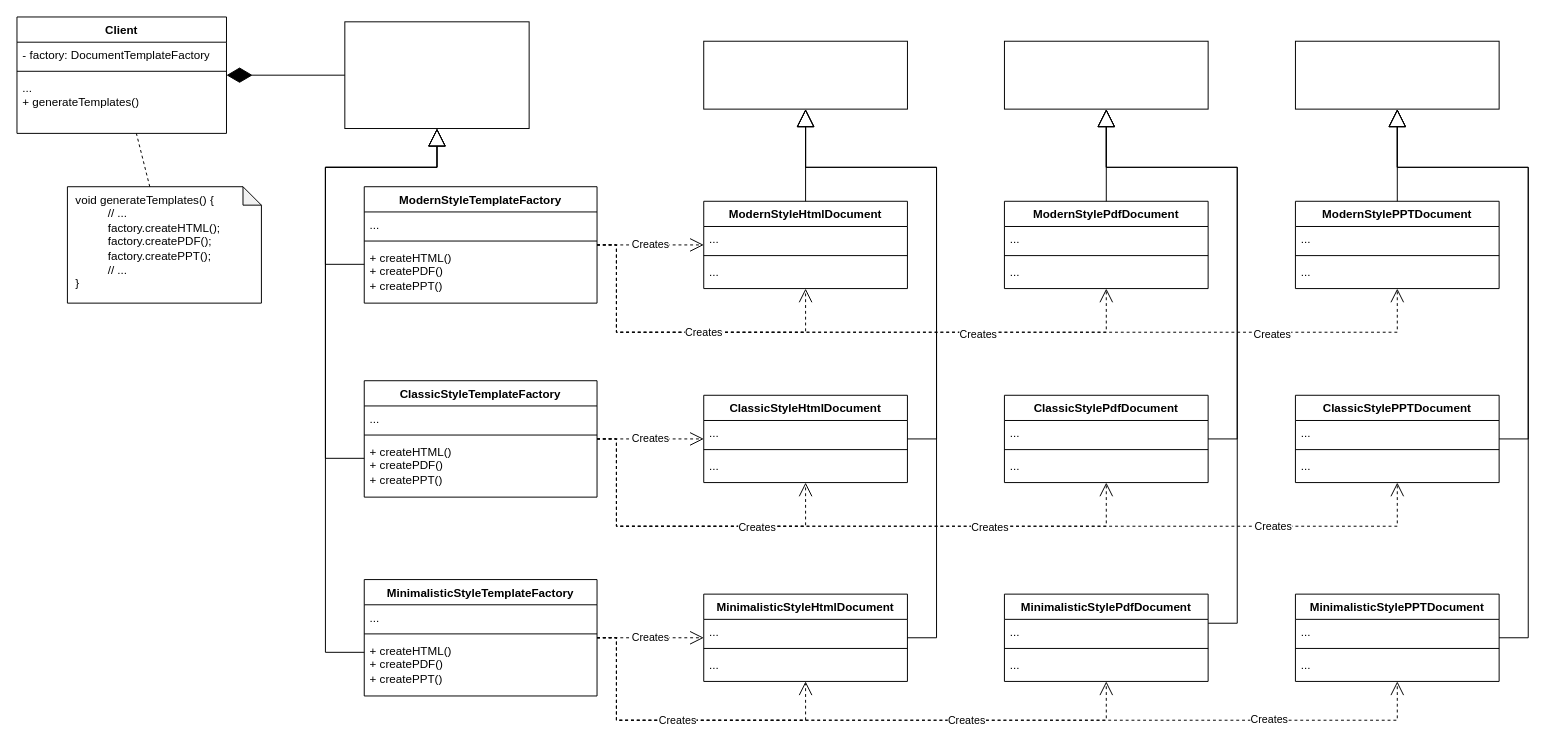
The diagram is 1563 pixels wide and 751 high, and some of its shapes have lost their labels. The centre of each missing label's shape, as x and y in pixels:
"<<Interface>> DocumentTemplateFactory + createHTML() + createPDF() + createPPT()" belongs at point (436, 75).
"<<Interface>> HtmlDocumentTemplate ..." belongs at point (805, 74).
"<<Interface>> PdfDocumentTemplate ..." belongs at point (1105, 74).
"<<Interface>> PPTDocumentTemplate ..." belongs at point (1396, 74).
